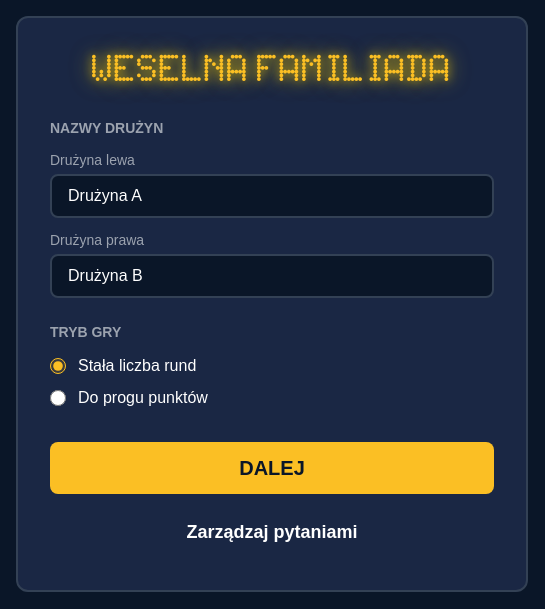
Test: LobbyScreen › should disable DALEJ button when a team name is empty
expect the heading "WESELNA FAMILIADA" is shown: met, box [92,55,452,81]
Clear the field showing "Drużyna A" below "Drużyna lewa". click: (272, 196)
box: [50,174,494,218]
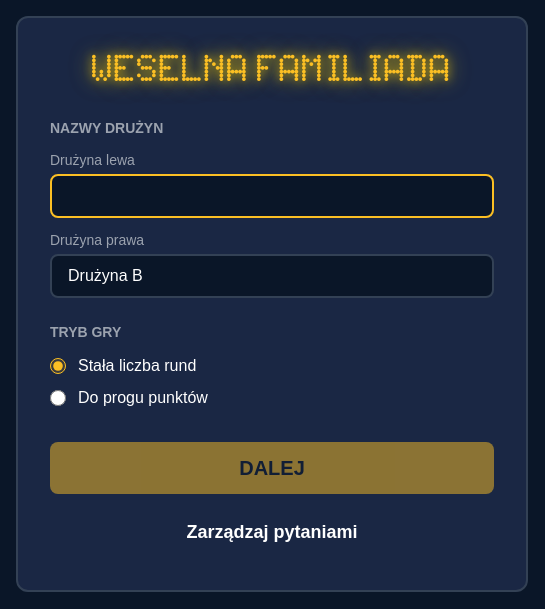
expect the button "DALEJ" is disabled: met, box [50,442,494,494]
